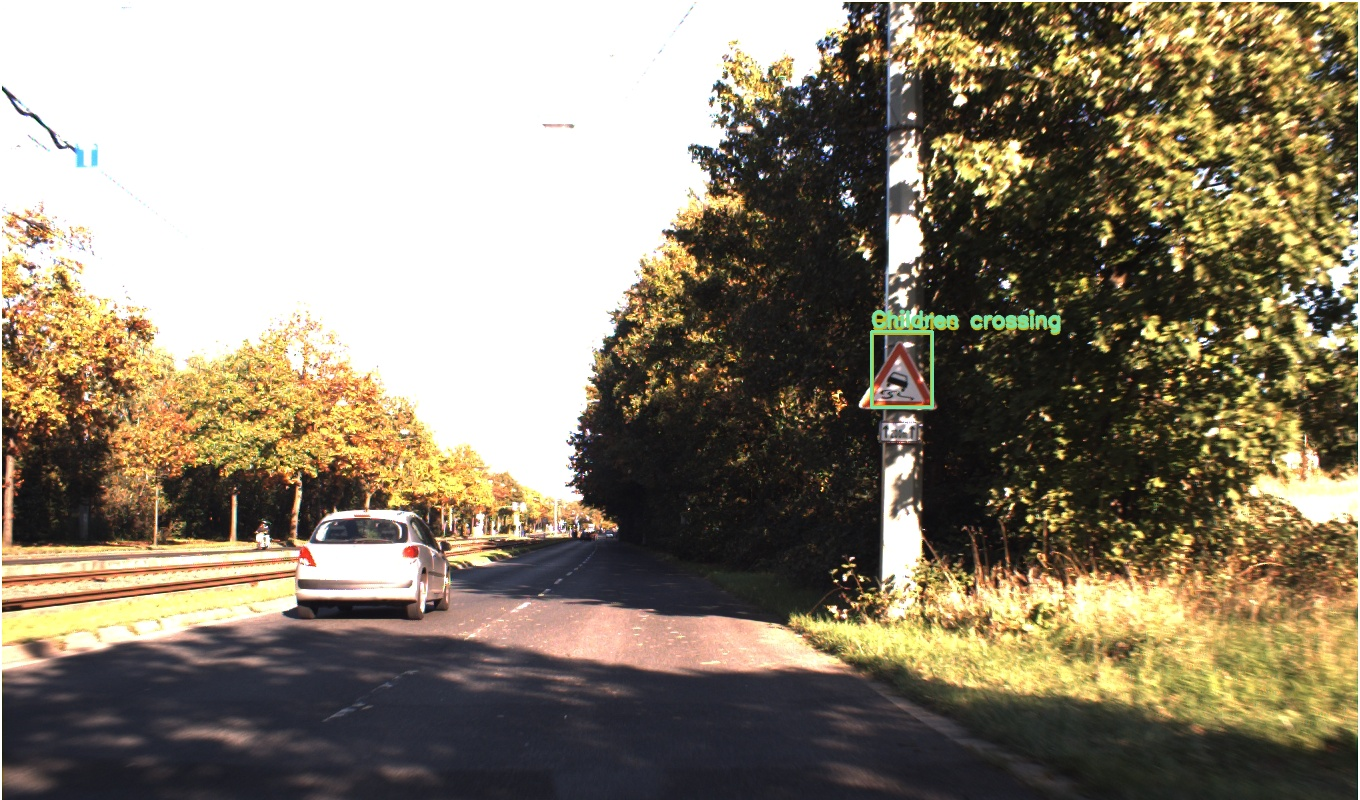Priority road: (786, 394, 824, 435)
